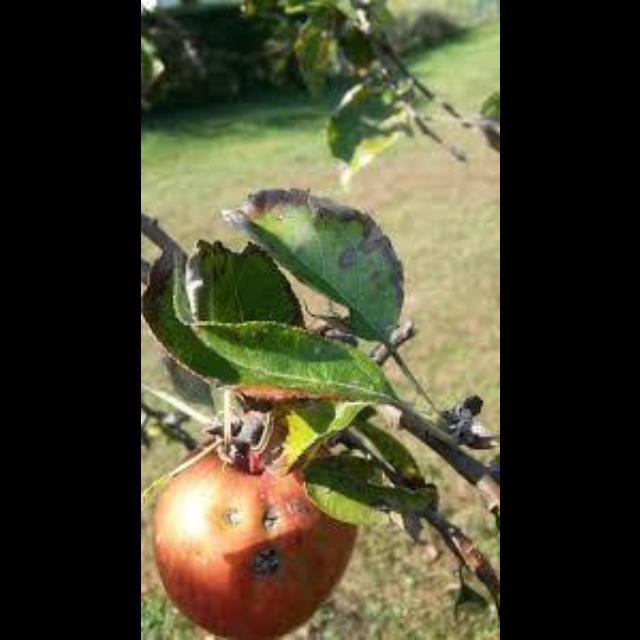apple: (151, 454, 354, 638)
pest: (241, 544, 280, 588), (257, 497, 280, 533), (217, 500, 242, 532), (284, 491, 313, 516)
